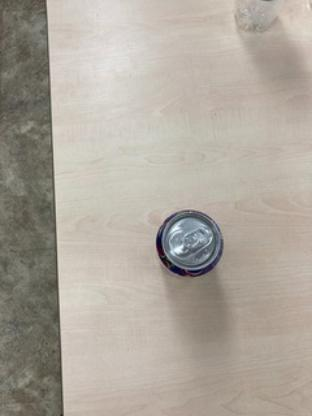Can: (154, 204, 224, 282)
